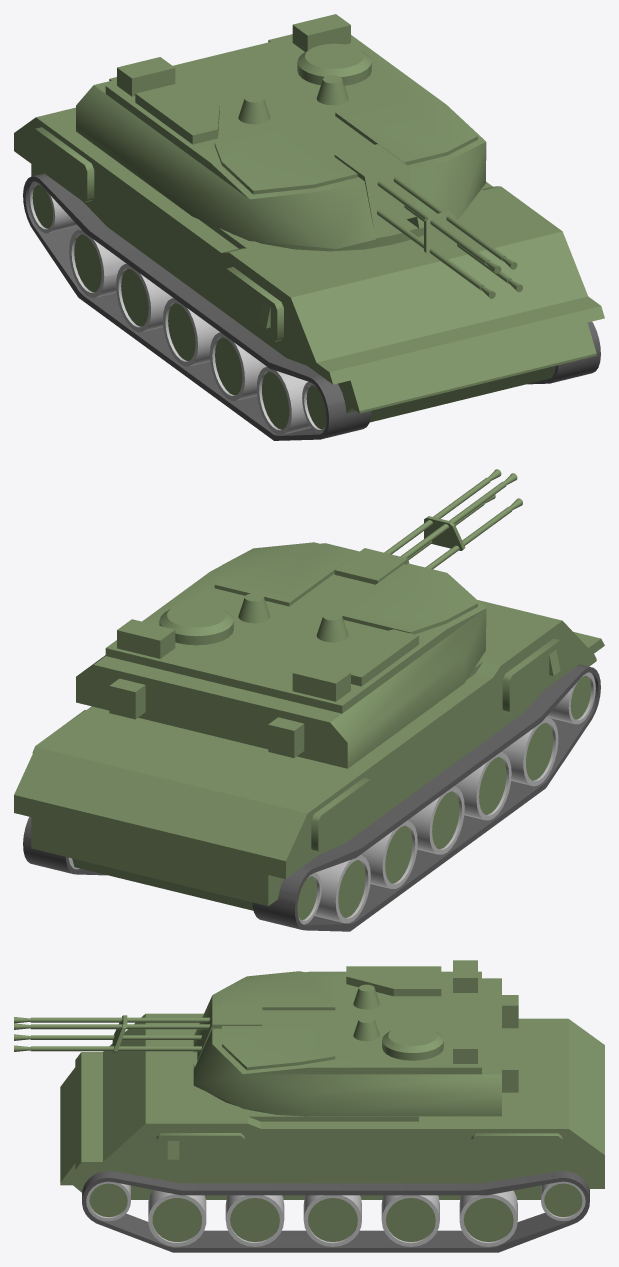
File: shilka_220502_2.fbx
3 renders of one model, top to bottom at view 1: azimuth 30°, elevation 25°; view 2: azimuth 150°, elevation 25°; view 3: azimuth 270°, elevation 25°, orthographic. The views are drawn at different scales.
Parts seen in each view (by area): view 1: base, turret_head, turret_barrel; view 2: base, turret_head, turret_barrel; view 3: base, turret_head, turret_barrel.
Part boxes in pixels (left/top/right/bottom): base: left=14, top=107, right=604, bottom=440; turret_head: left=76, top=14, right=486, bottom=248; turret_barrel: left=334, top=144, right=522, bottom=298; base: left=14, top=600, right=604, bottom=931; turret_head: left=76, top=542, right=486, bottom=768; turret_barrel: left=334, top=469, right=522, bottom=584; base: left=60, top=1013, right=604, bottom=1252; turret_head: left=193, top=960, right=518, bottom=1116; turret_barrel: left=14, top=1007, right=262, bottom=1060.
Bounding box in the file's own units: 3.39 × 2.57 × 7.09.
